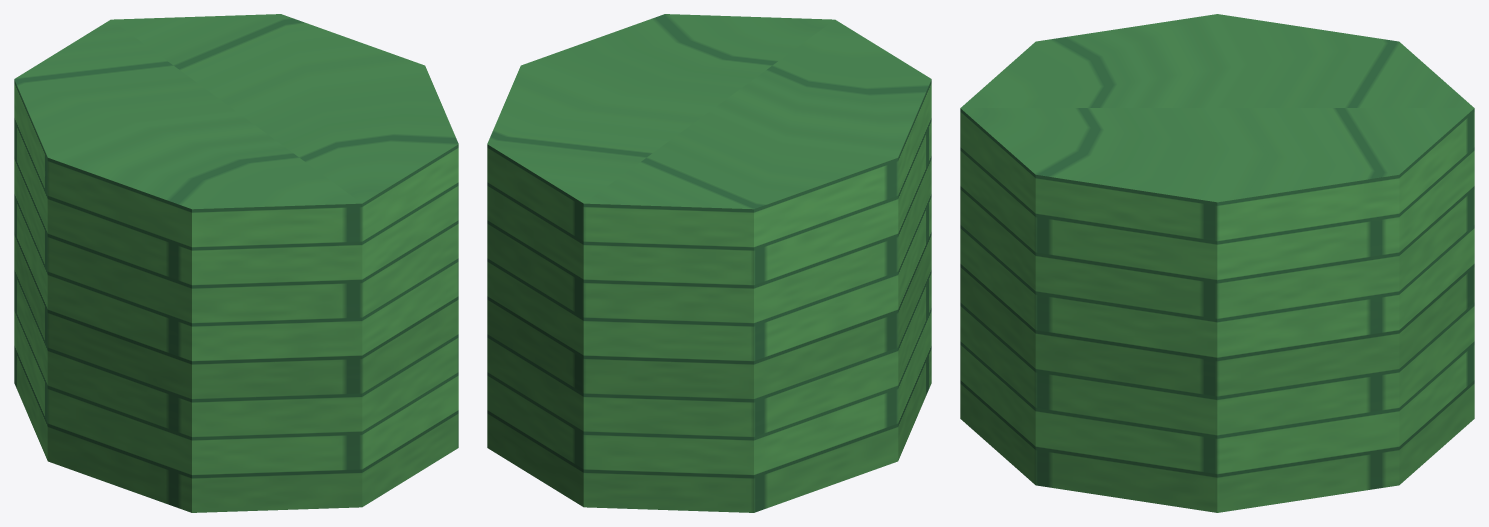
3 views of the same model, side by side, from view 1: azimuth 30°, elevation 25°; view 2: azimuth 150°, elevation 25°; view 3: azimuth 270°, elevation 25° (orthographic). The views are drawn at different scales.
Parts seen in each view (by area): view 1: geometry_0; view 2: geometry_0; view 3: geometry_0.
Boxes of the visible parts, bbox=[...] form: geometry_0: bbox=[14, 14, 458, 512]; geometry_0: bbox=[487, 14, 931, 512]; geometry_0: bbox=[960, 14, 1474, 512].
Bounding box in the file's own units: 1.1 × 0.8483 × 1.27.
1 material, 1 textured.
